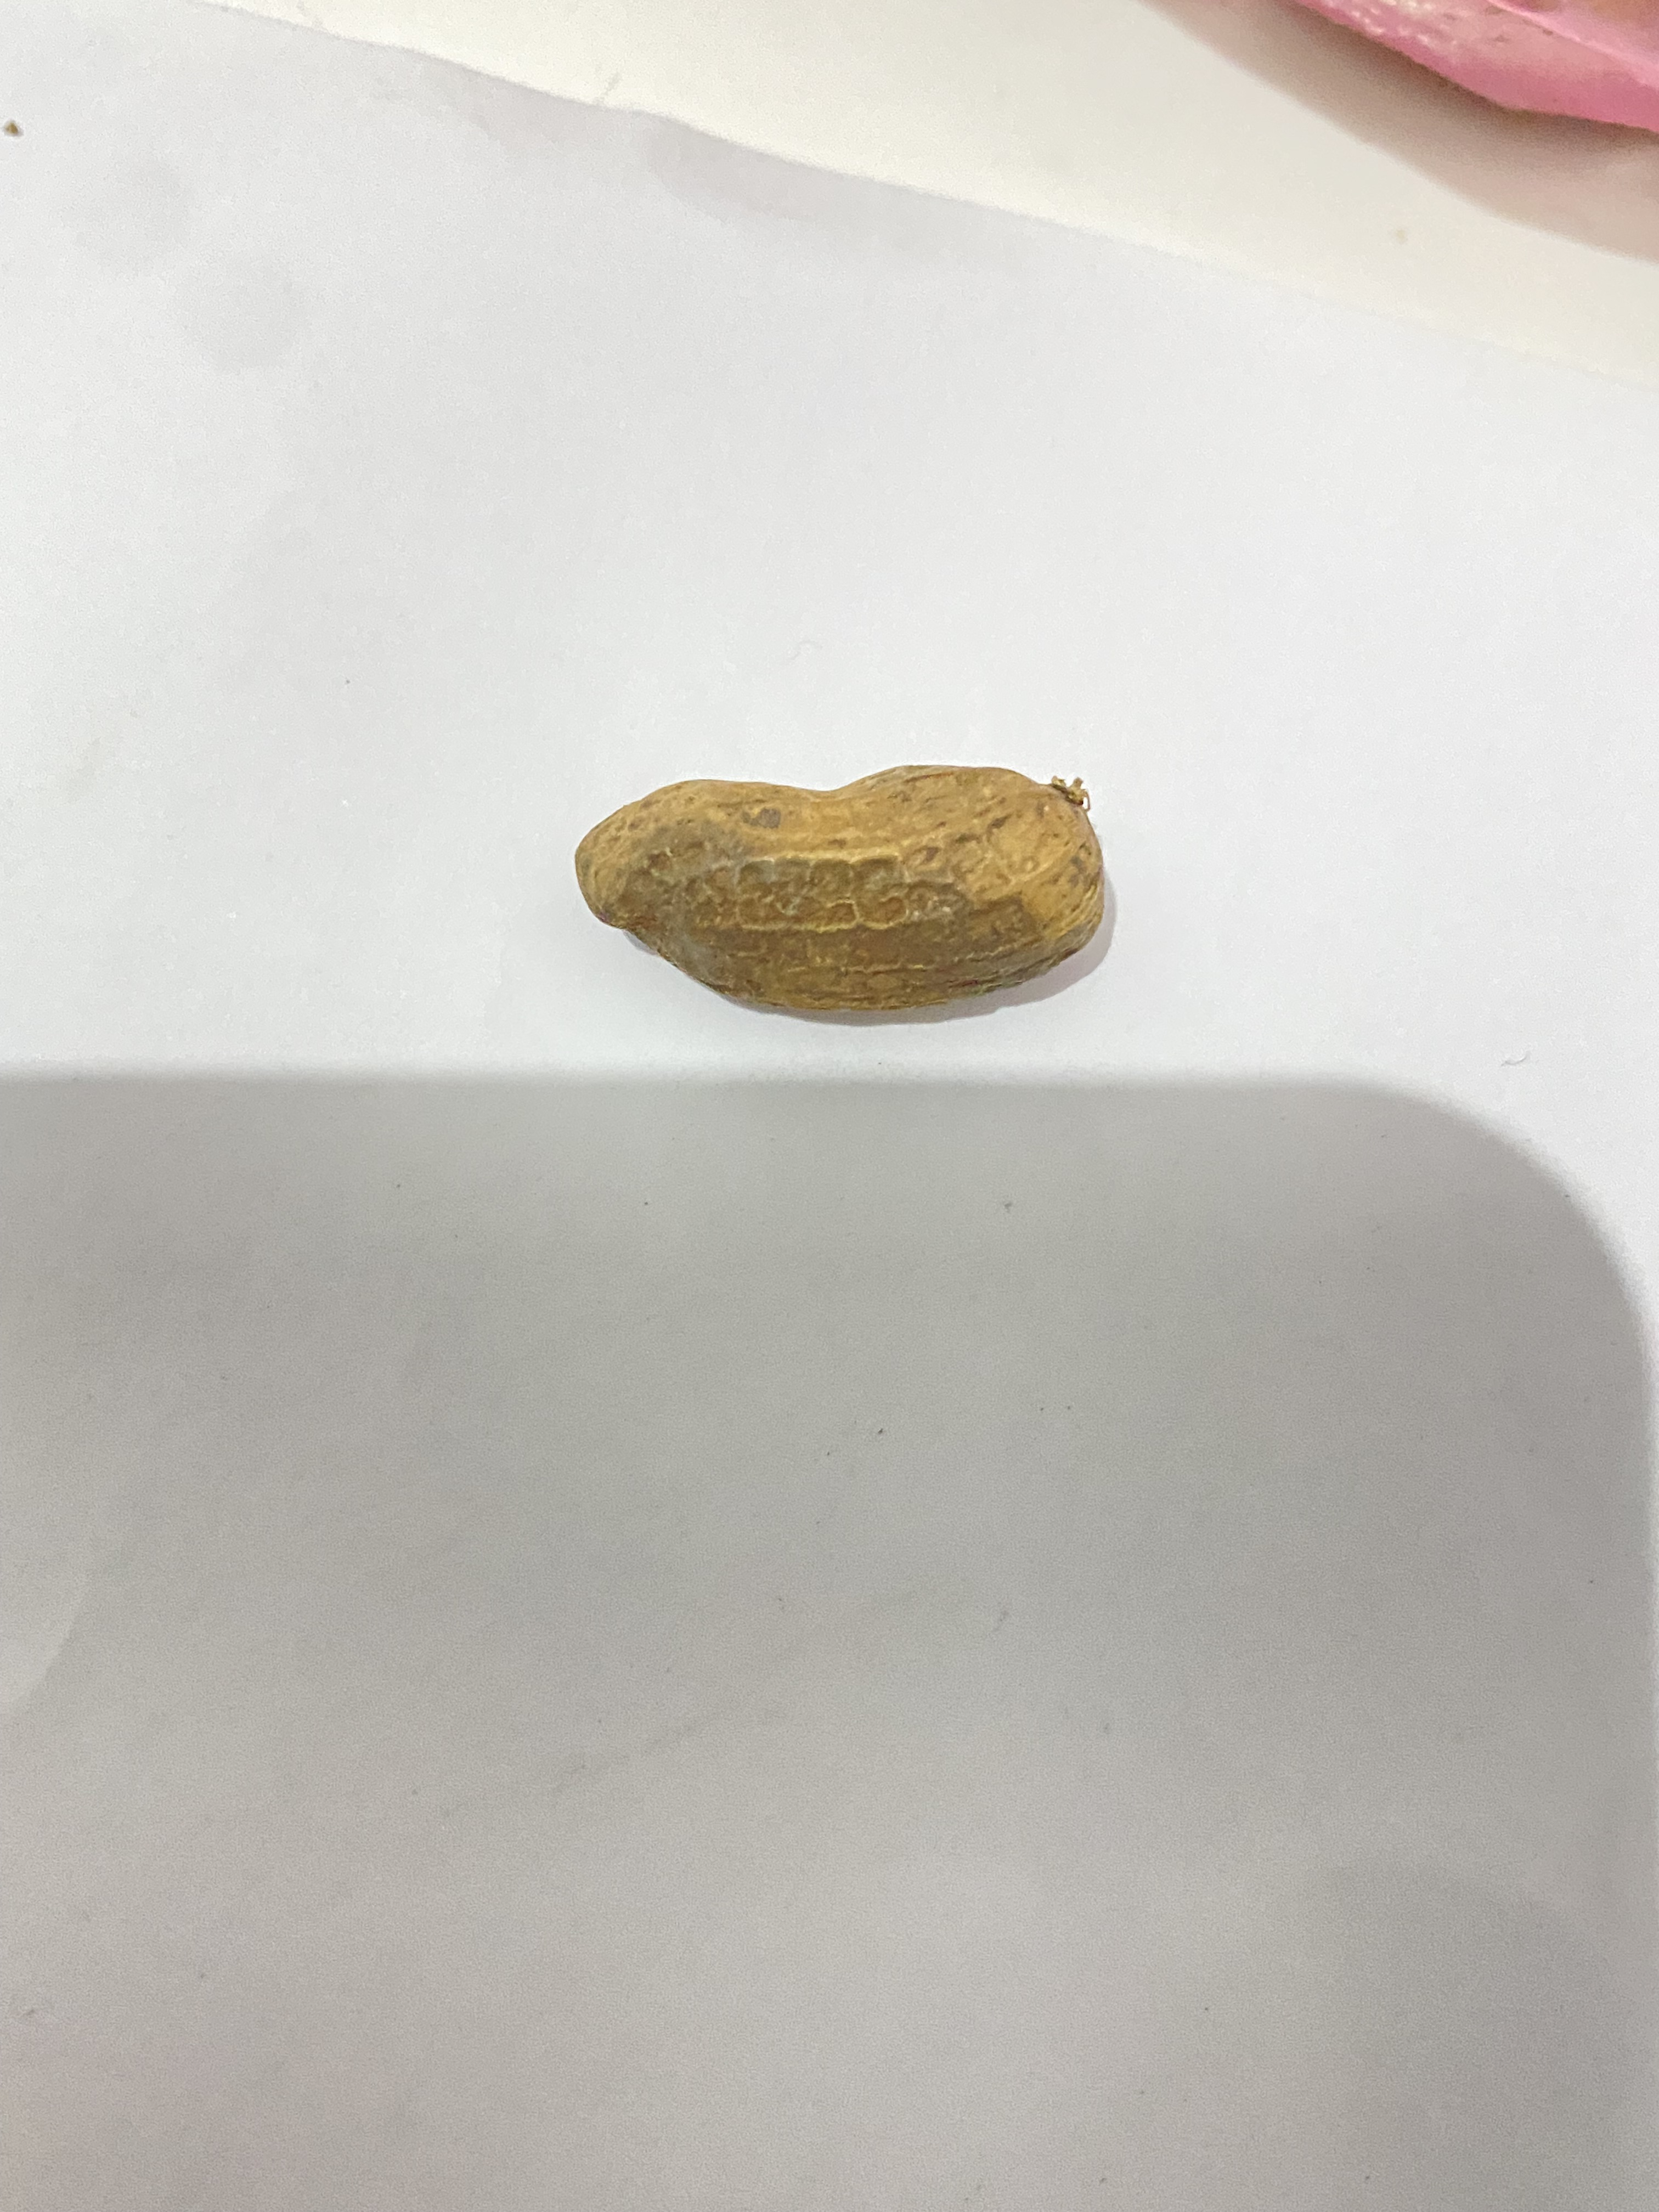kacang2: (519, 718, 1215, 1031)
